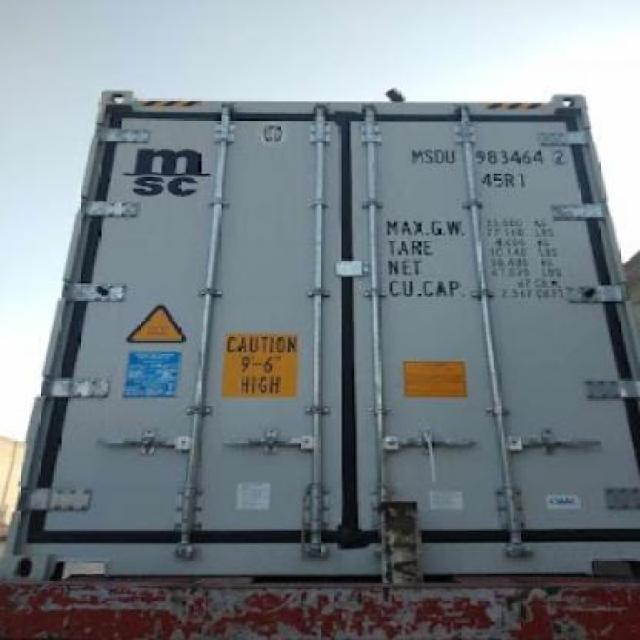ISO: (482, 170, 527, 190)
container_number: (411, 148, 571, 167)
